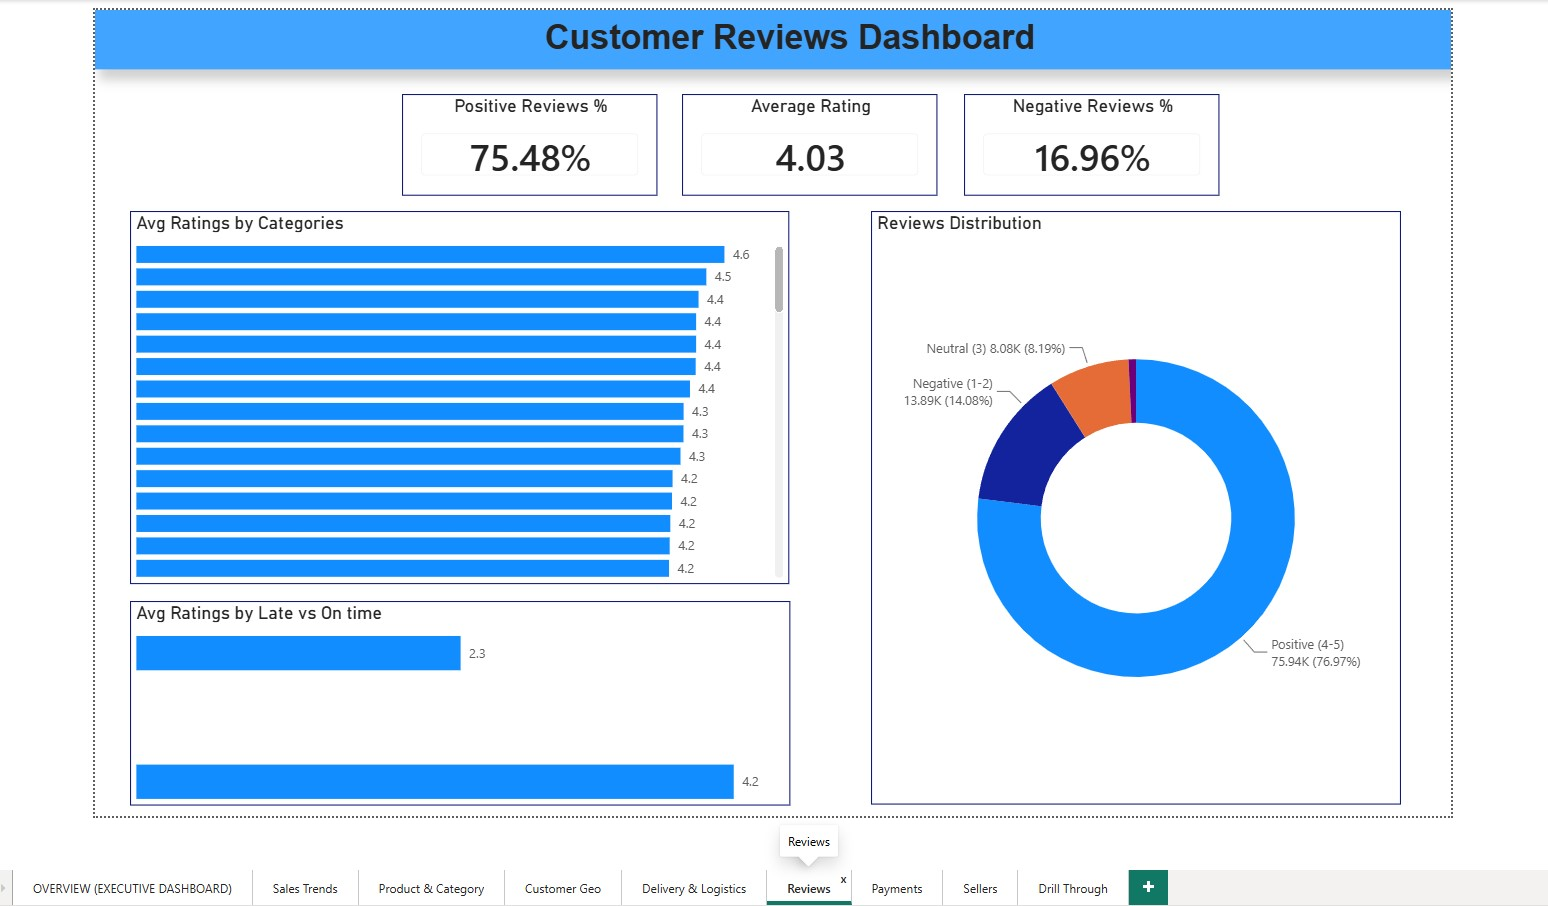

This screenshot's page, from the dashboard's own definition file:
{"tool":"powerbi","page":{"name":"Reviews","canvas":[1280,760],"ordinal":5},"visuals":[{"type":"cardVisual","title":"Average Rating","fields":{"Data":["public bi_fact_sales.Avg Rating"]},"box":[554.2,79.2,241.2,95.8],"z":0},{"type":"cardVisual","title":"Negative Reviews %","fields":{"Data":["public bi_fact_sales.Negative Reviews %"]},"box":[819.4,79.2,241.2,95.8],"z":1000},{"type":"cardVisual","title":"Positive Reviews %","fields":{"Data":["public bi_fact_sales.Positive Reviews %"]},"box":[290,79.2,241.2,95.8],"z":2000},{"type":"donutChart","title":"Reviews Distribution","fields":{"Y":["public bi_fact_sales.Orders"],"Category":["public bi_fact_sales.Review Bucket"]},"box":[732.3,189.6,500,560.4],"z":3000},{"type":"clusteredBarChart","title":"Avg Ratings by Categories","fields":{"Category":["public bi_fact_sales.category"],"Y":["public bi_fact_sales.Avg Rating"]},"box":[33.3,189.6,622.5,352],"z":4000},{"type":"clusteredBarChart","title":"Avg Ratings by Late vs On time","fields":{"Y":["public bi_fact_sales.Avg Rating"],"Category":["public bi_fact_sales.is_late"]},"box":[33.2,557.6,622.9,192.7],"z":5000},{"type":"shape","box":[0,0,1280.2,56.2],"z":6000},{"type":"textbox","box":[409.4,3.1,492.7,53.1],"z":7000}]}

Visuals, with their boxes on the page's 1280x760 design canvas (x1, y1, x2, y2). These are canvas units, not pixel positions in the 1548x906 screenshot, which may show the page scaled, cropped or inside an application window:
"Average Rating" cardVisual: select_region(554, 79, 795, 175)
"Negative Reviews %" cardVisual: select_region(819, 79, 1061, 175)
"Positive Reviews %" cardVisual: select_region(290, 79, 531, 175)
"Reviews Distribution" donutChart: select_region(732, 190, 1232, 750)
"Avg Ratings by Categories" clusteredBarChart: select_region(33, 190, 656, 542)
"Avg Ratings by Late vs On time" clusteredBarChart: select_region(33, 558, 656, 750)
shape: select_region(0, 0, 1280, 56)
textbox: select_region(409, 3, 902, 56)
